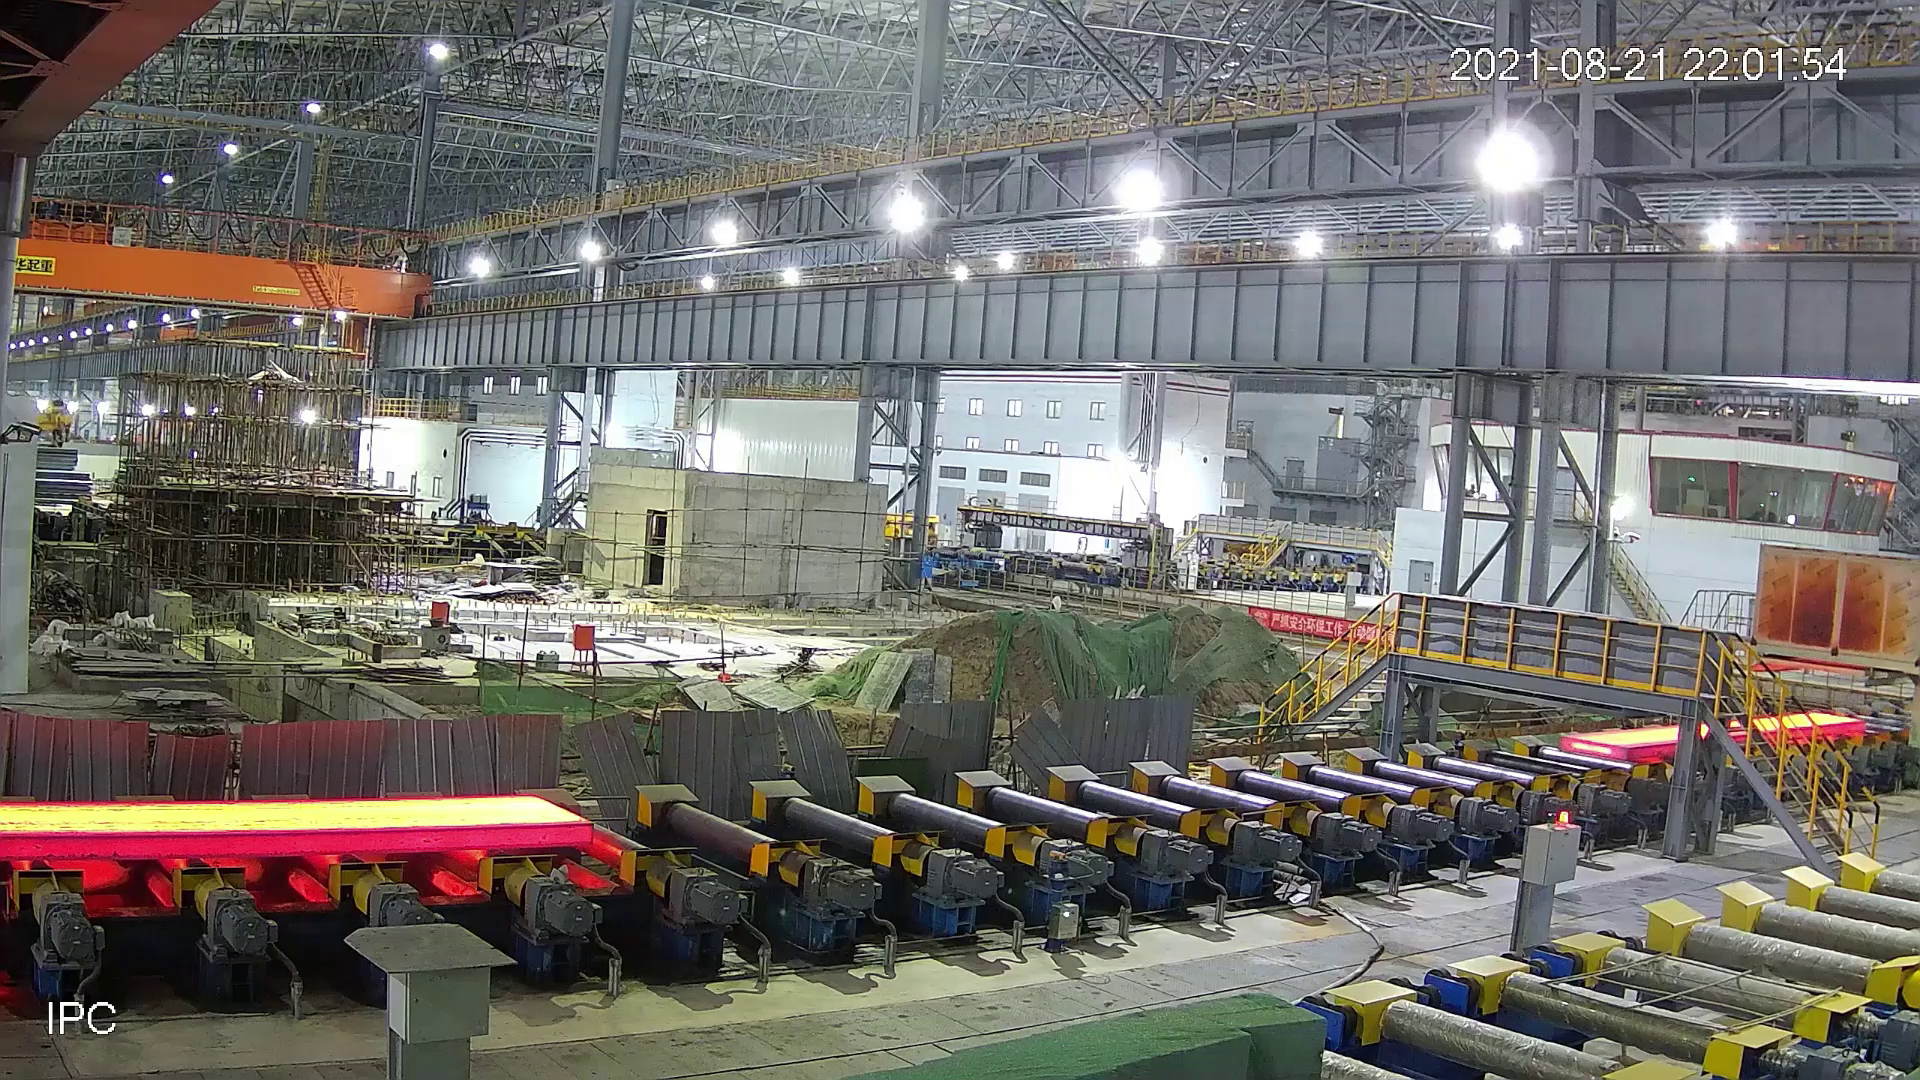slab: (1, 787, 592, 869), (1544, 713, 1865, 765)
